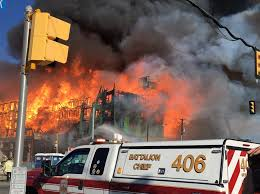smoke: (62, 1, 257, 73)
